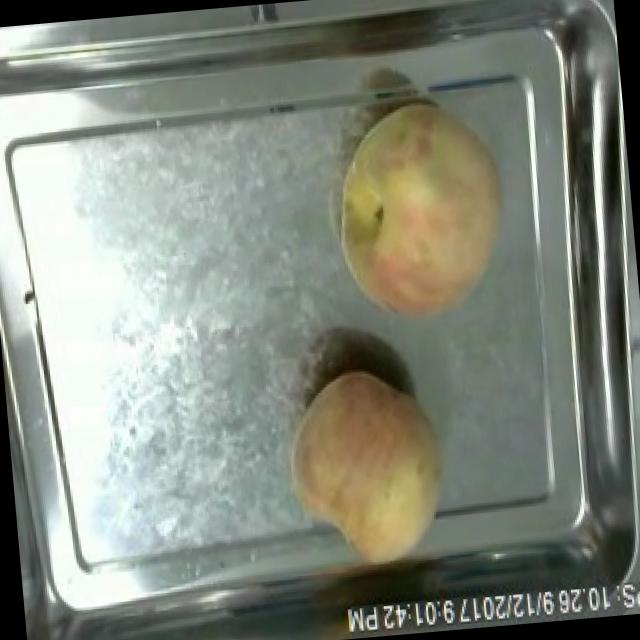Fruit: (322, 92, 520, 334), (268, 357, 458, 575)
